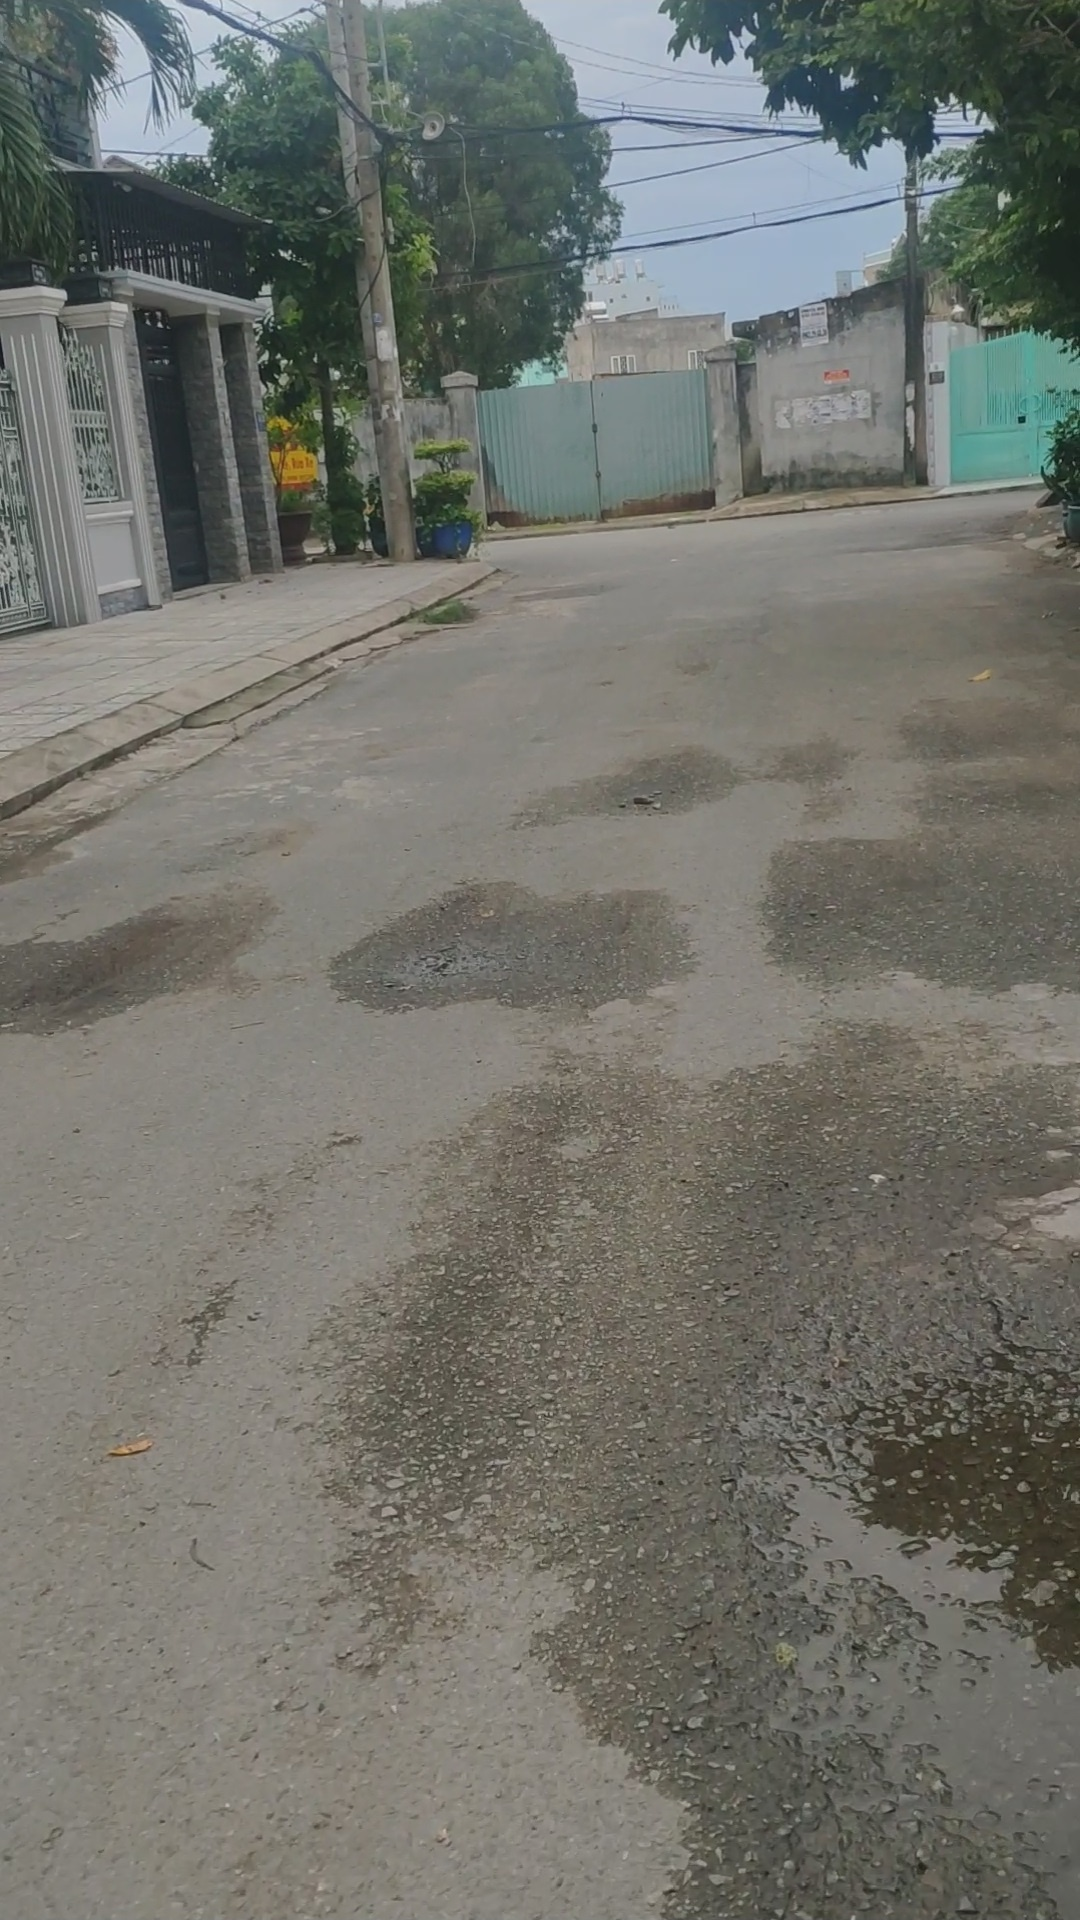hole: (715, 1356, 1080, 1846), (382, 914, 611, 1002)
